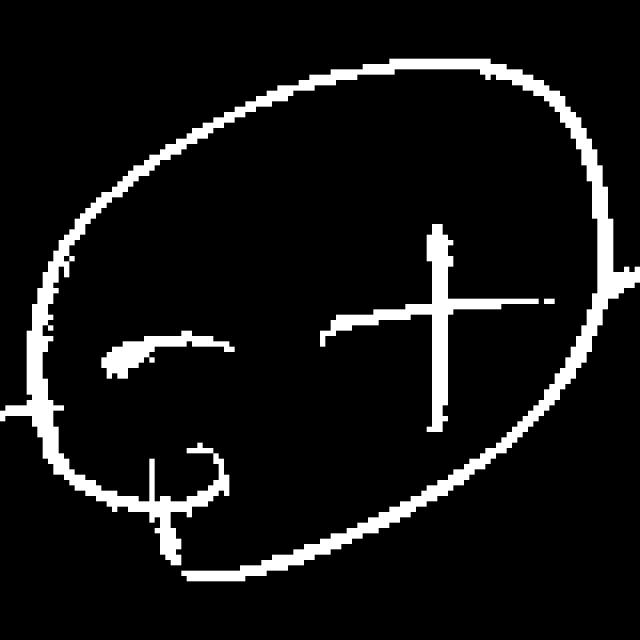voltage_source: (18, 43, 624, 590)
